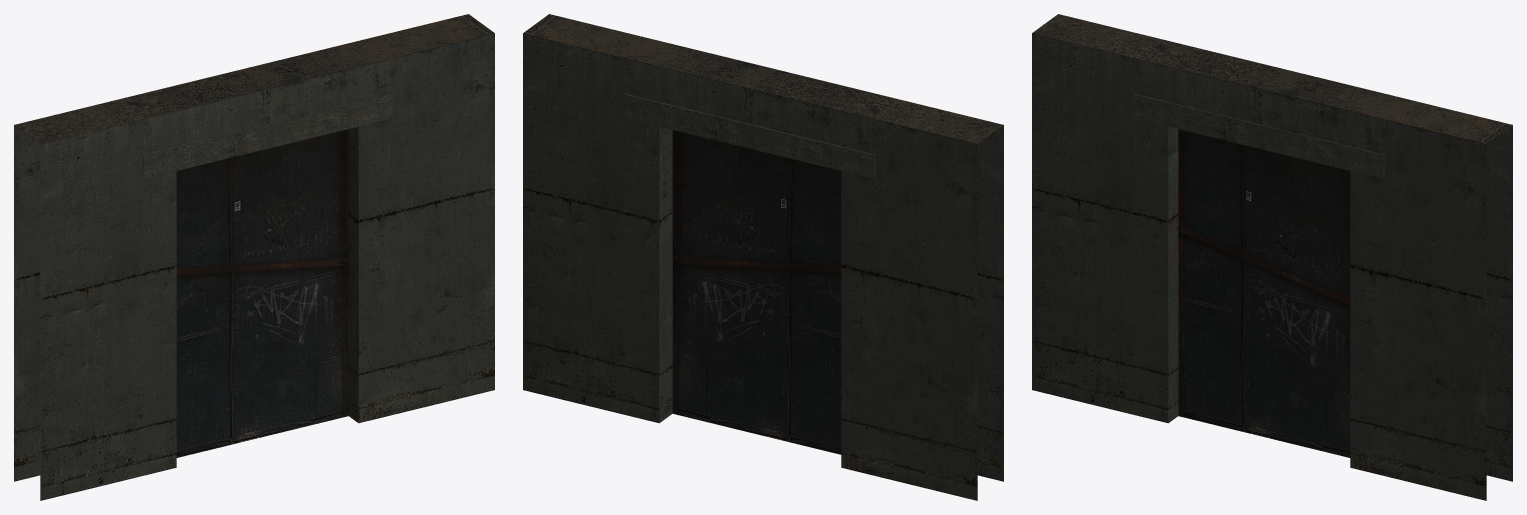
The model's file is doorway_rg_1_wide.glb.
3 views of the same model, side by side, from view 1: azimuth 30°, elevation 25°; view 2: azimuth 150°, elevation 25°; view 3: azimuth 330°, elevation 25° (orthographic).
Visible parts, largest first — view 1: doorway_rg_1_wide, door_hm_1_piece_2.001, door_hm_1_piece_1.001; view 2: doorway_rg_1_wide, door_hm_1_piece_2.001, door_hm_1_piece_1.001; view 3: doorway_rg_1_wide, door_hm_1_piece_2.001, door_hm_1_piece_1.001.
Part boxes in pixels (x1,y1,x2,y2): doorway_rg_1_wide: (14,14,494,500); door_hm_1_piece_2.001: (235,129,348,443); door_hm_1_piece_1.001: (176,157,234,457); doorway_rg_1_wide: (523,14,1003,500); door_hm_1_piece_2.001: (672,130,786,441); door_hm_1_piece_1.001: (786,157,841,454); doorway_rg_1_wide: (1032,14,1512,500); door_hm_1_piece_2.001: (1246,145,1350,457); door_hm_1_piece_1.001: (1178,129,1246,432).
Size of the model in its own units: 4 by 3 by 0.42.
Materials: 4 (4 with a texture image).
